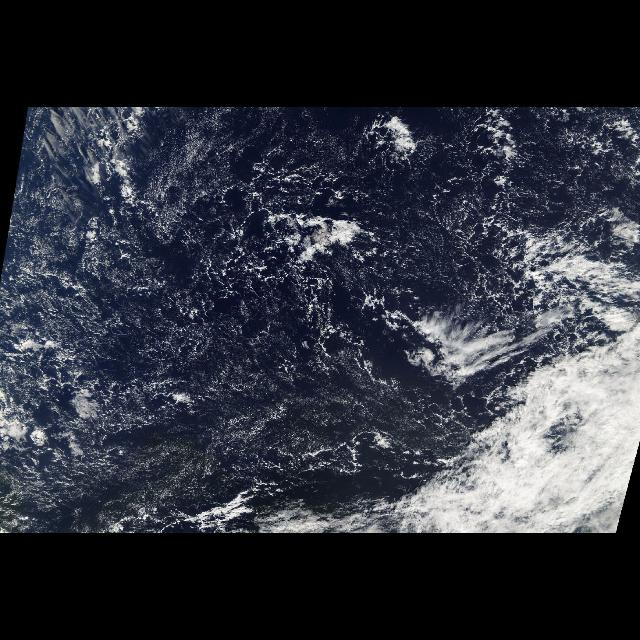Gravel: (2, 110, 640, 530)
Sugar: (7, 113, 423, 511)
